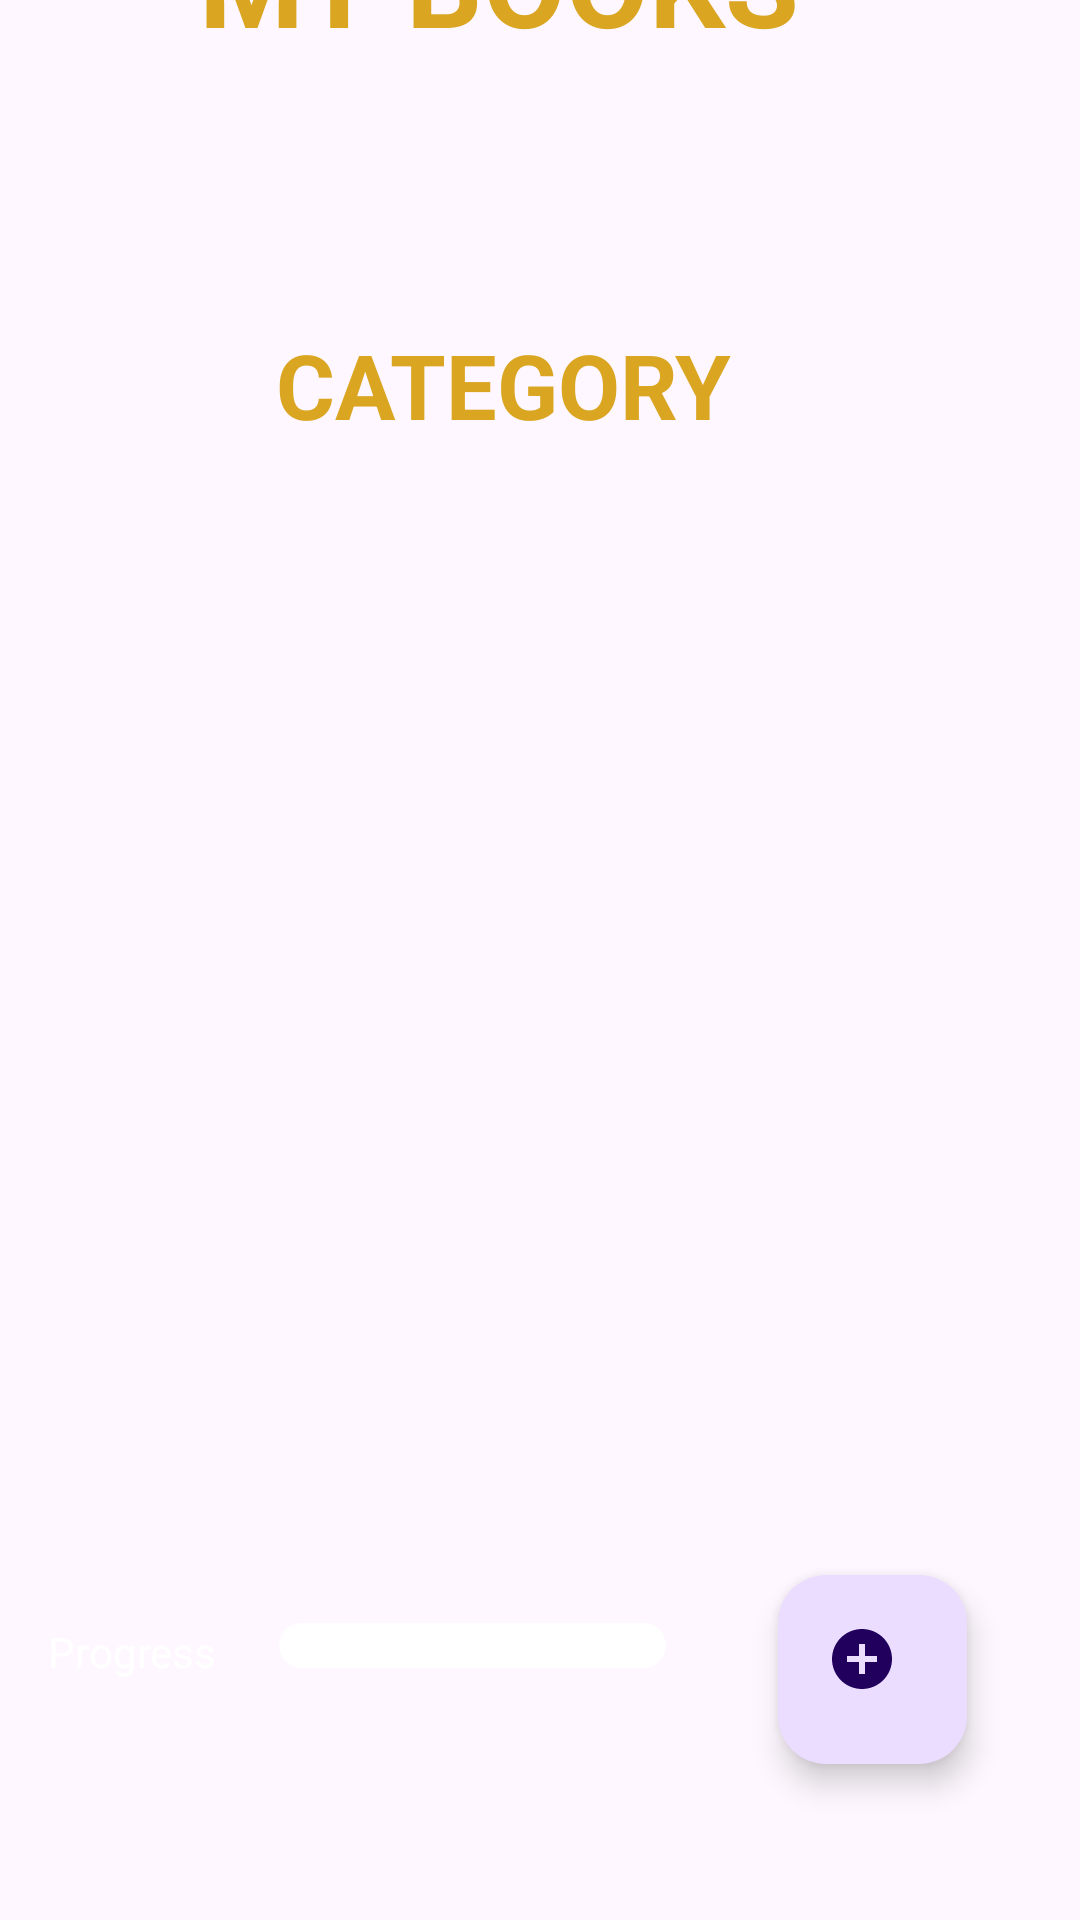

Where icons sit on this 1080 × 1920 app screen, as box(x1, y1, x2, y2):
Add Cat: box(778, 1575, 967, 1764)
